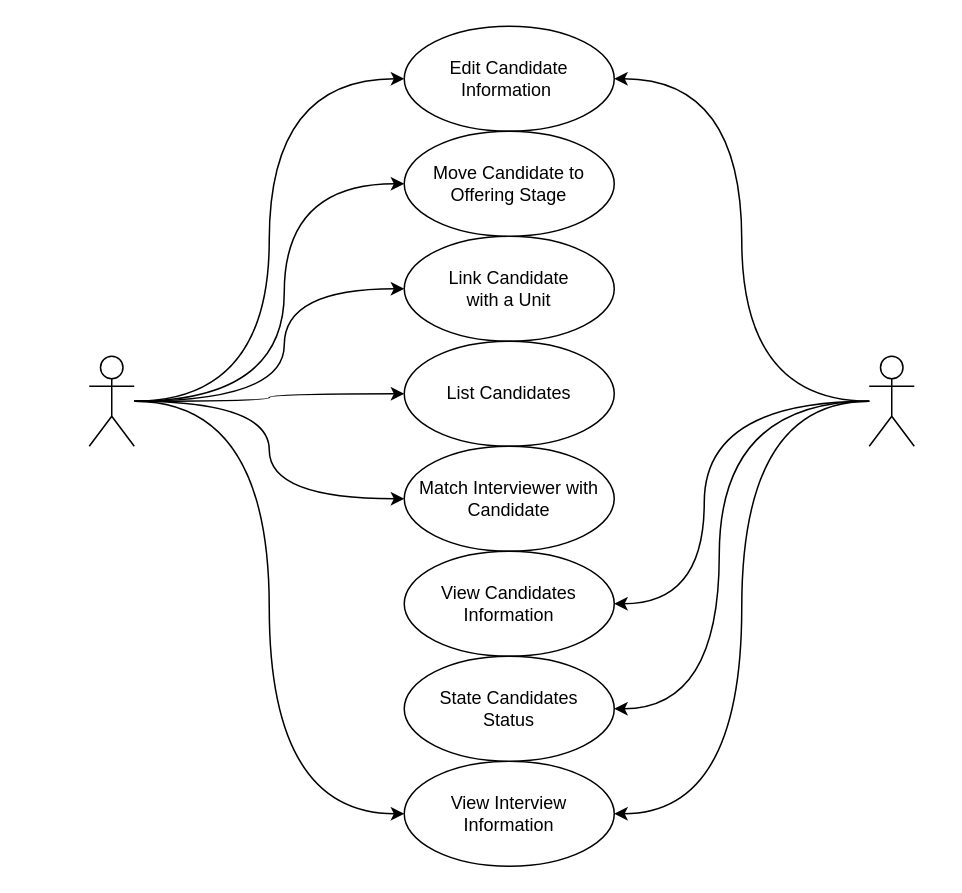
Some shapes in this 962 by 893 pixel diagram are drawn without their labels. The shapes that lost their labels are listed below. From the top down, each one's centre as x and y in pixels, then its label:
At (111,400): "talent acquisition(TA)".
At (891,400): "interveiwer".
